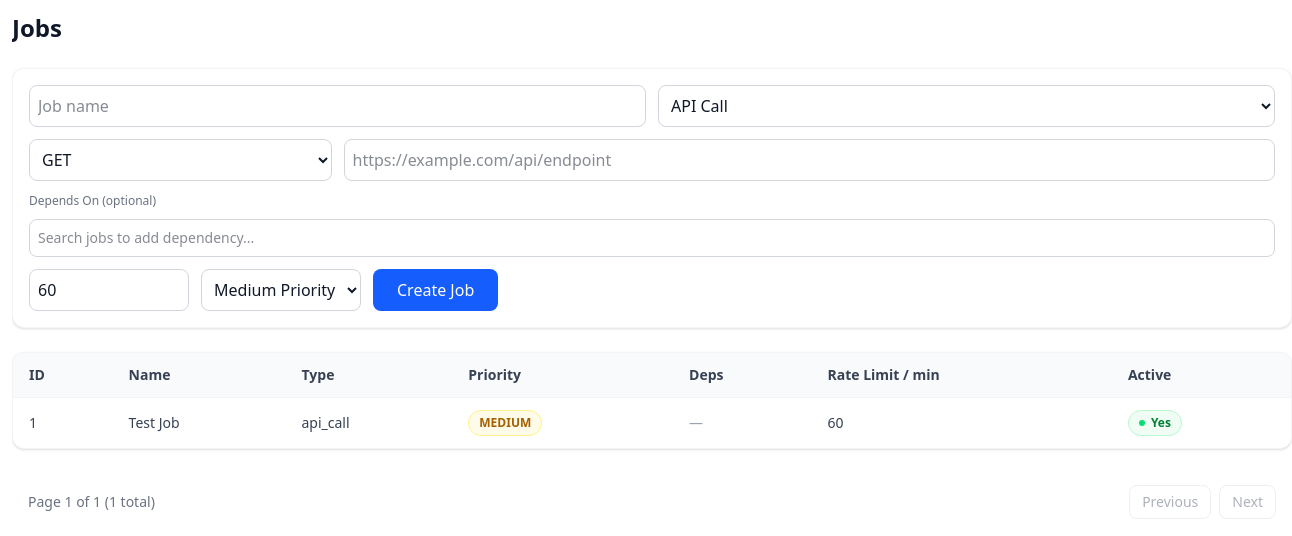
Test case: Jobs Page › shows string manipulation field when selected
This screenshot has width=1292, height=536.
Select "String Manipulation" in the 1st dropdown at (966, 106), box x1=658 y1=85 x2=1275 y2=127
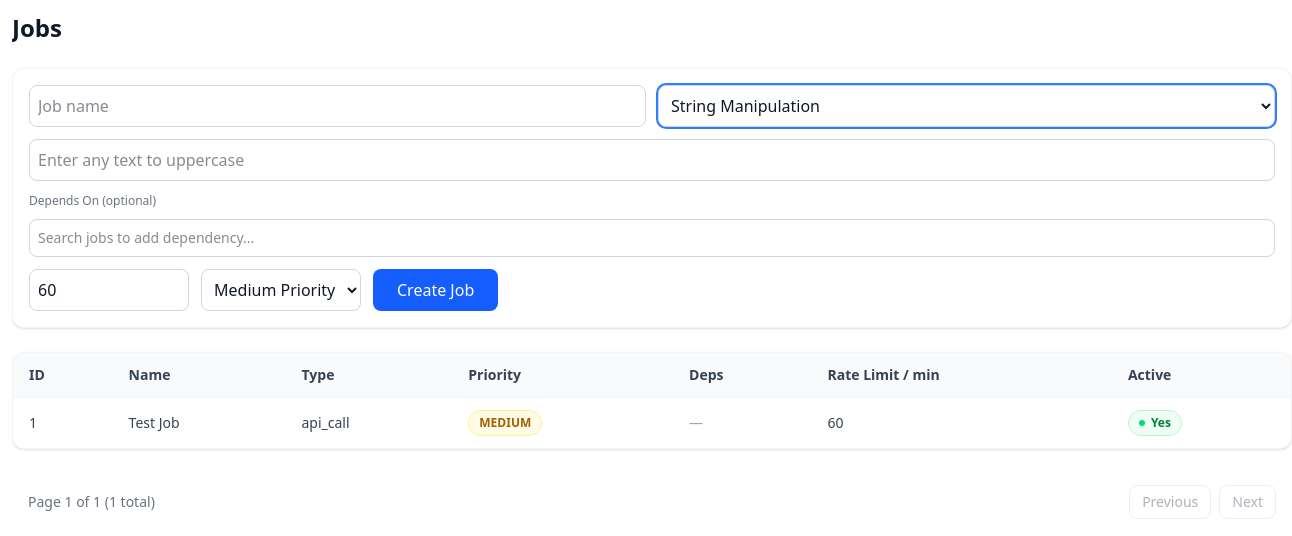
Check: the field with placeholder "Enter any text to uppercase" is shown, box x1=29 y1=139 x2=1275 y2=181
